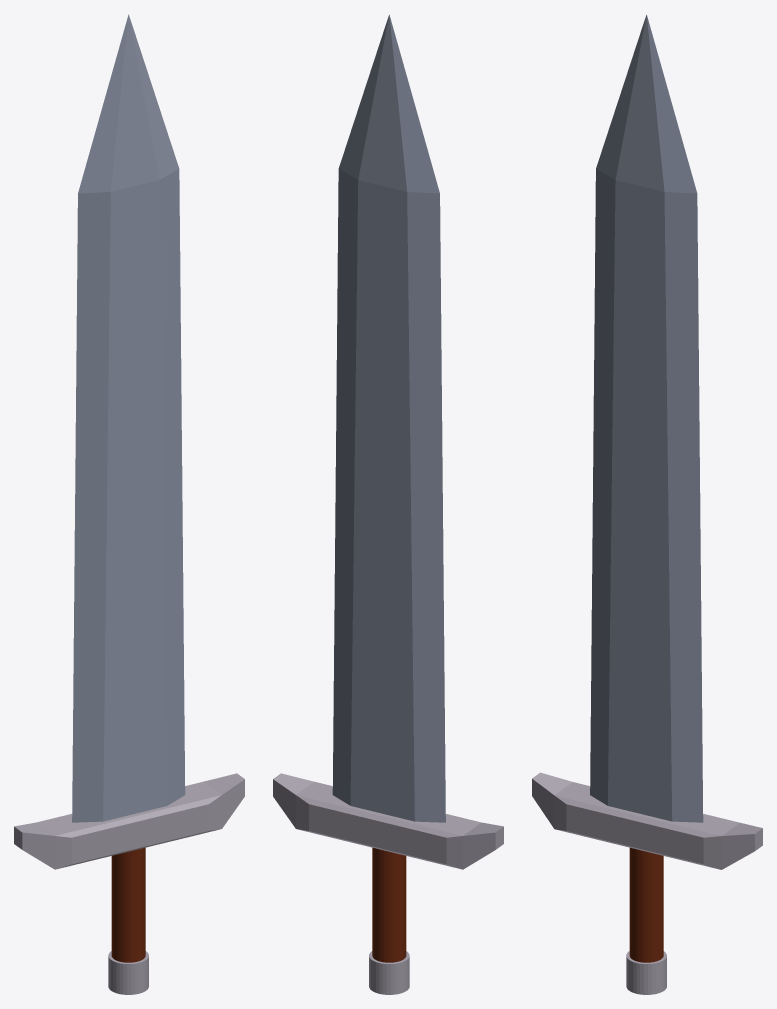
Rendered from metal_sword.glb.
The picture shows the model from 3 angles, left to right: view 1: azimuth 30°, elevation 25°; view 2: azimuth 150°, elevation 25°; view 3: azimuth 330°, elevation 25°; orthographic projection.
Visible parts, largest first — view 1: Cube.001, Cube, Cylinder.001, Cylinder; view 2: Cube.001, Cube, Cylinder.001, Cylinder; view 3: Cube.001, Cube, Cylinder.001, Cylinder.
Part boxes in pixels (left/top/right/bottom): Cube.001: left=72, top=14, right=185, bottom=822; Cube: left=14, top=773, right=244, bottom=869; Cylinder.001: left=111, top=847, right=145, bottom=962; Cylinder: left=108, top=951, right=148, bottom=994; Cube.001: left=332, top=14, right=445, bottom=822; Cube: left=273, top=773, right=503, bottom=869; Cylinder.001: left=372, top=847, right=406, bottom=962; Cylinder: left=369, top=951, right=409, bottom=994; Cube.001: left=590, top=14, right=703, bottom=822; Cube: left=532, top=772, right=762, bottom=869; Cylinder.001: left=629, top=847, right=663, bottom=962; Cylinder: left=626, top=951, right=666, bottom=994.
Bounding box in the file's own units: 1.6 × 6.65 × 0.2873.
